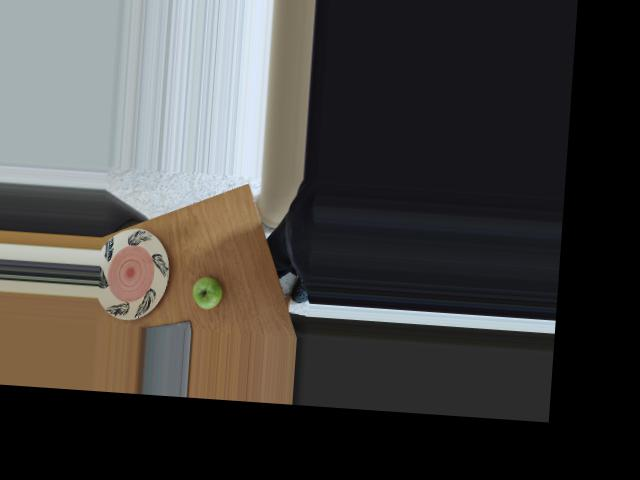apple: (190, 271, 230, 310)
